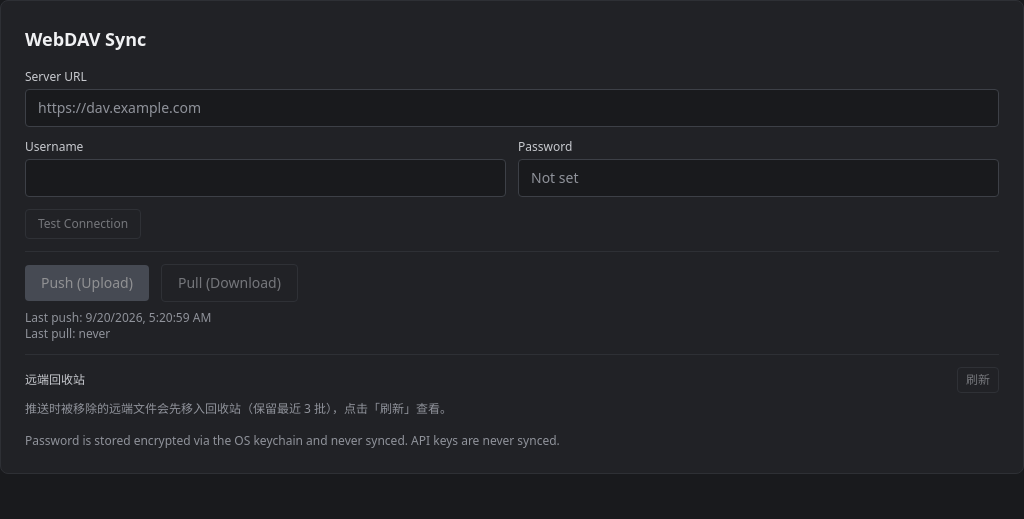
Test case: WebDavSyncView — uncovered result branches › warns with <1h for a fresh last push and pulls when confirmed
Type "https://dav.example/dav" into the field with placeholder "https://dav.example.com" at (512, 108), box [25,89,999,127]
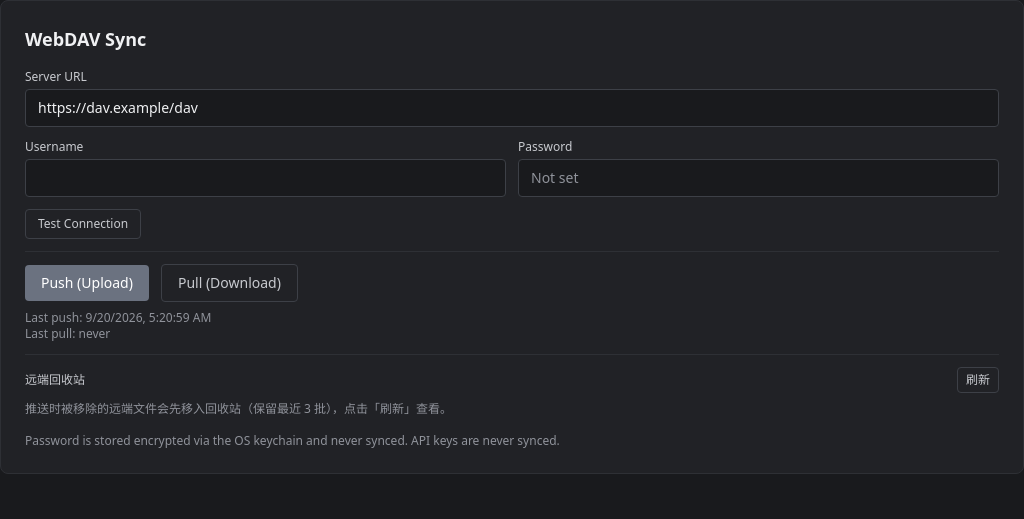
Click the button "Pull (Download)" at (229, 283), box [161,264,298,302]
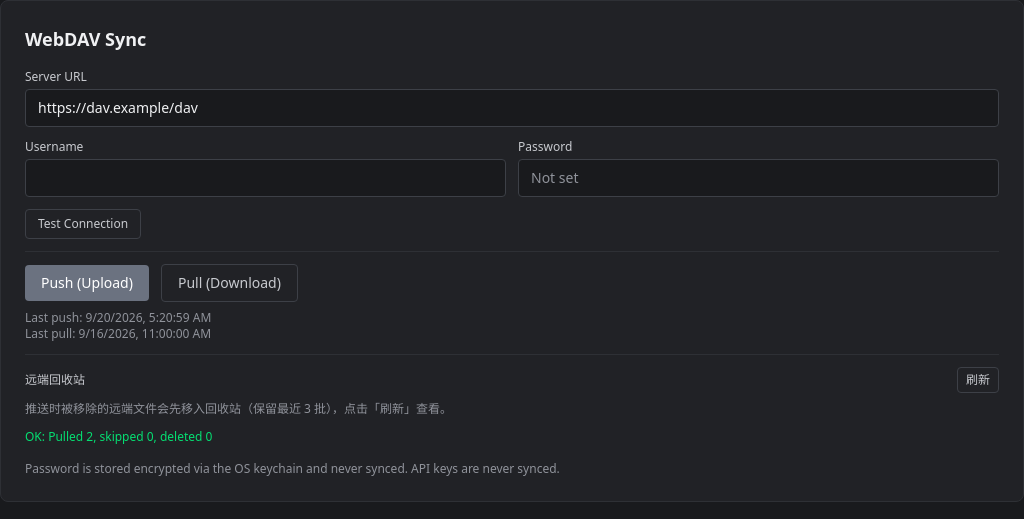
Check: the text "OK: Pulled 2, skipped 0, deleted 0" is shown, box [25,428,212,445]
